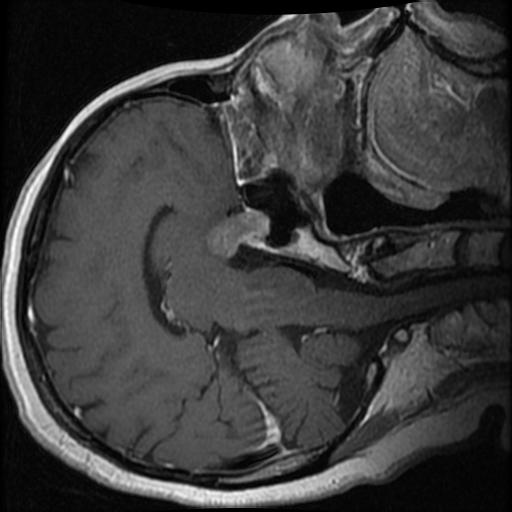pituitary tumour: (208, 208, 271, 256)
